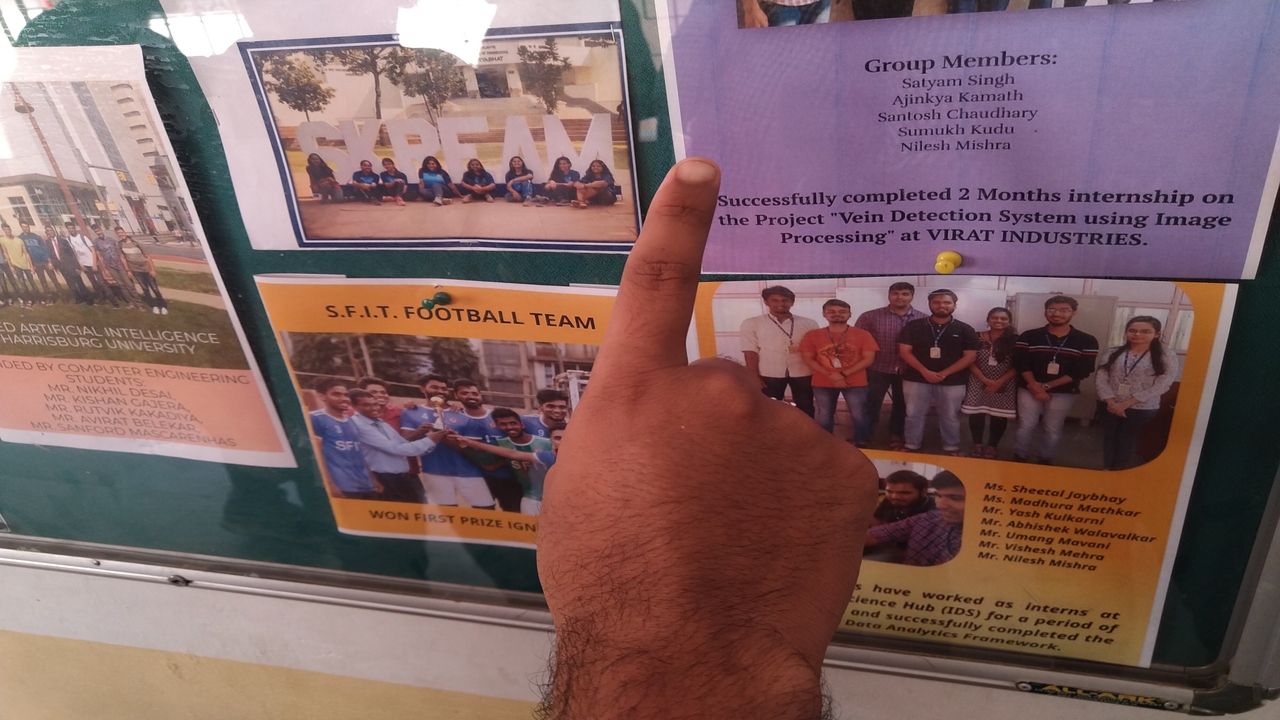fingertip: (666, 150, 728, 200)
